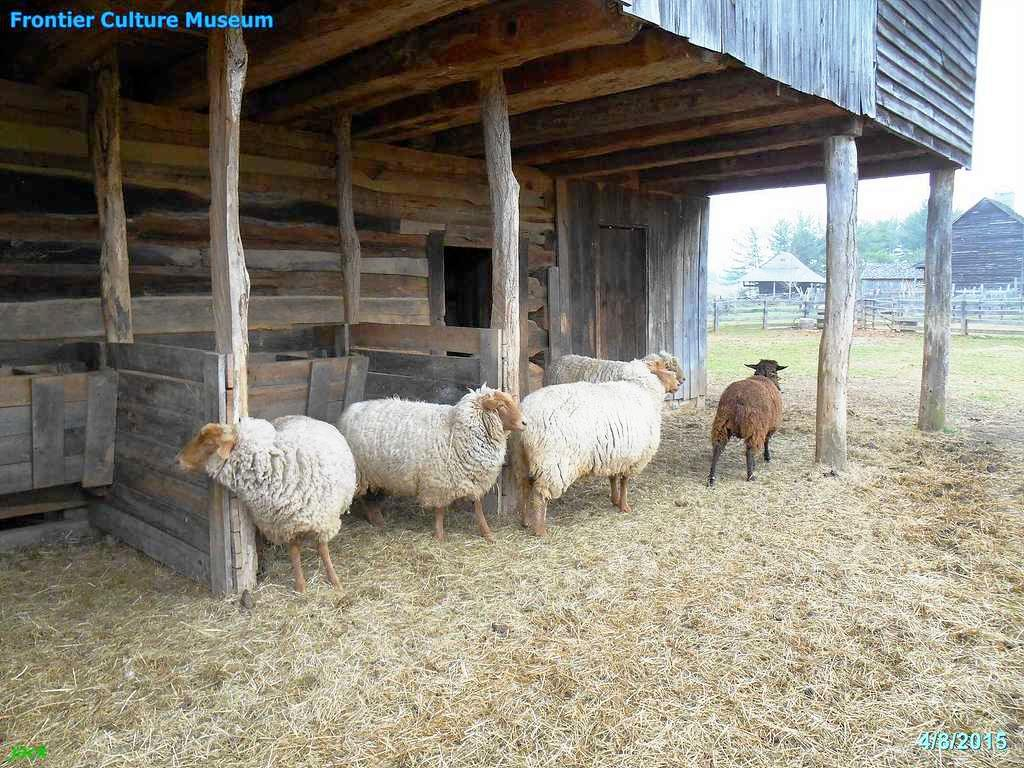Sheep: (174, 400, 368, 596), (333, 384, 530, 549), (518, 360, 681, 534), (707, 356, 792, 484), (544, 352, 684, 406)
